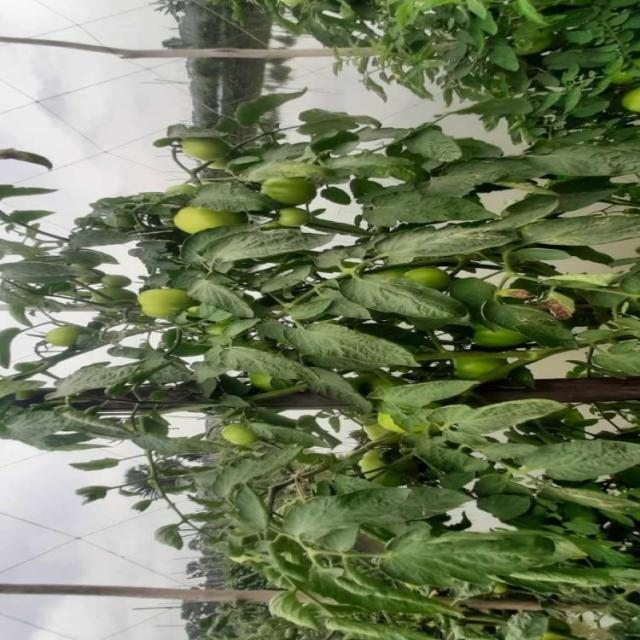tomato: (428, 345, 515, 385), (364, 401, 433, 442), (175, 196, 230, 243), (134, 280, 196, 320), (262, 167, 323, 206), (469, 318, 528, 356), (180, 132, 228, 167), (399, 259, 449, 292), (218, 408, 253, 455), (356, 456, 397, 488), (44, 319, 89, 347), (454, 272, 486, 309), (247, 367, 285, 395), (271, 210, 312, 234), (617, 84, 640, 112)
